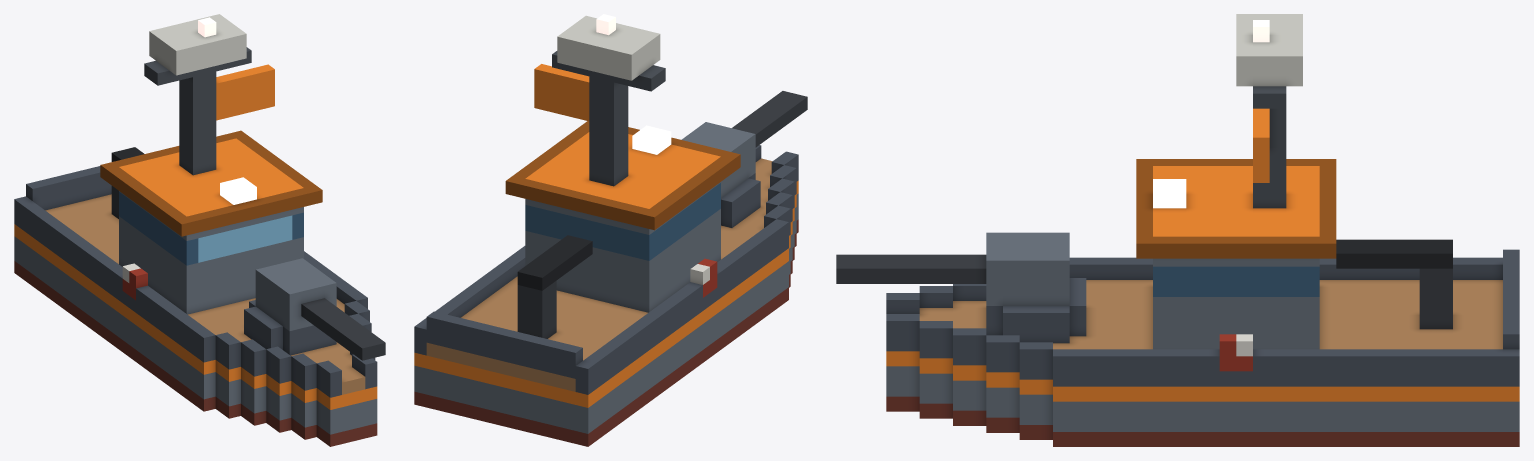
The model's file is cm_gunboat_5.glb.
3 renders of one model, left to right at view 1: azimuth 30°, elevation 25°; view 2: azimuth 150°, elevation 25°; view 3: azimuth 270°, elevation 25°, orthographic. The views are drawn at different scales.
Visible parts, largest first — view 1: cm_gunboat_5_body; view 2: cm_gunboat_5_body; view 3: cm_gunboat_5_body.
Part boxes in pixels (x1=…): cm_gunboat_5_body: x1=14, y1=14, x2=385, y2=446; cm_gunboat_5_body: x1=414, y1=14, x2=807, y2=446; cm_gunboat_5_body: x1=836, y1=14, x2=1519, y2=446.
Size of the model in its own units: 0.875 by 1.56 by 2.56.
1 material, 1 textured.
